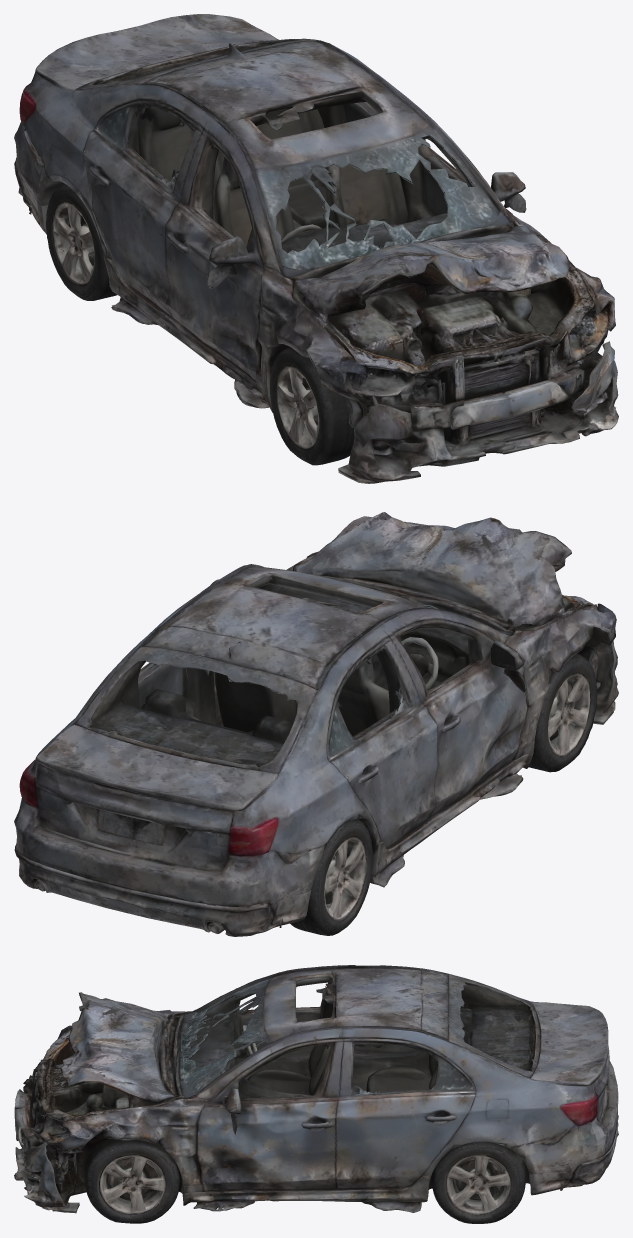
The model's file is burned-sedan-v1.glb.
3 views of the same model, one above another, from view 1: azimuth 30°, elevation 25°; view 2: azimuth 150°, elevation 25°; view 3: azimuth 270°, elevation 25° (orthographic). The views are drawn at different scales.
Parts seen in each view (by area): view 1: tripo_node_11e0c821-2ade-4e6b-9152-af445fa30633; view 2: tripo_node_11e0c821-2ade-4e6b-9152-af445fa30633; view 3: tripo_node_11e0c821-2ade-4e6b-9152-af445fa30633.
Boxes of the visible parts, x1,y1,x2,y2 form: tripo_node_11e0c821-2ade-4e6b-9152-af445fa30633: (14,14,618,483); tripo_node_11e0c821-2ade-4e6b-9152-af445fa30633: (14,512,618,936); tripo_node_11e0c821-2ade-4e6b-9152-af445fa30633: (14,965,618,1223).
Bounding box in the file's own units: 0.4602 × 0.3262 × 0.9789.
1 material, 1 textured.
